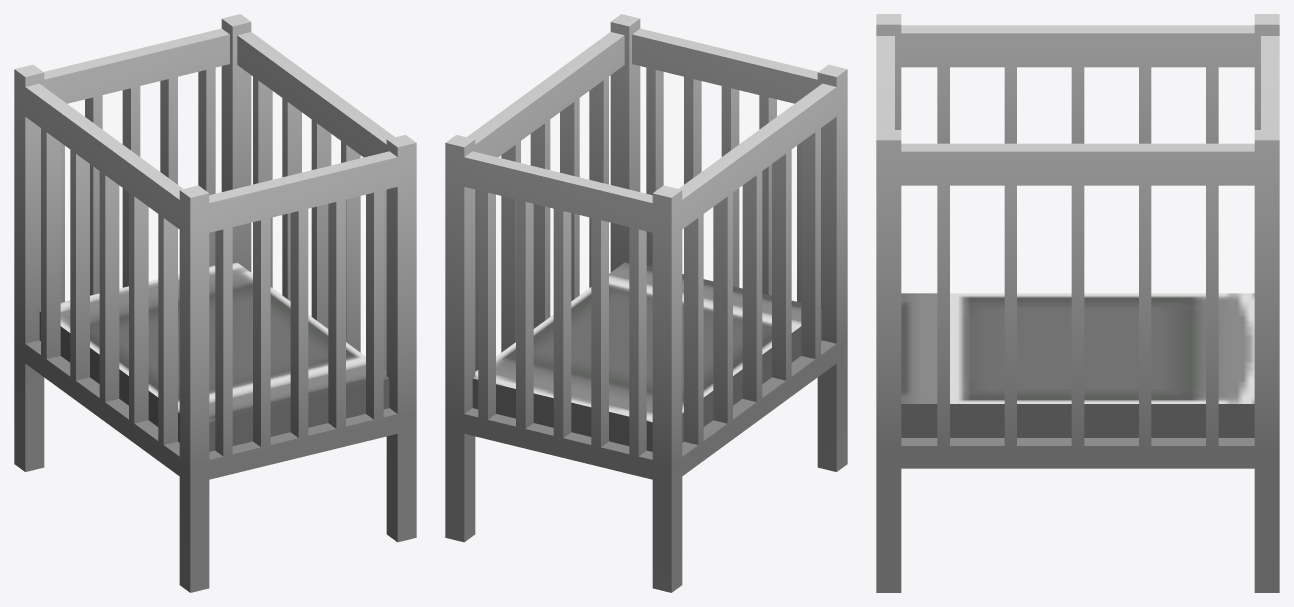
File: Building_Crib.obj
The picture shows the model from 3 angles, left to right: view 1: azimuth 30°, elevation 25°; view 2: azimuth 150°, elevation 25°; view 3: azimuth 270°, elevation 25°; orthographic projection. The views are drawn at different scales.
Parts seen in each view (by area): view 1: Body; view 2: Body; view 3: Body.
Part boxes in pixels (left/top/right/bottom): Body: left=14, top=14, right=416, bottom=592; Body: left=445, top=14, right=847, bottom=592; Body: left=876, top=14, right=1279, bottom=592.
Bounding box in the file's own units: 0.4792 × 0.8 × 0.6458.
1 material, 1 textured.
